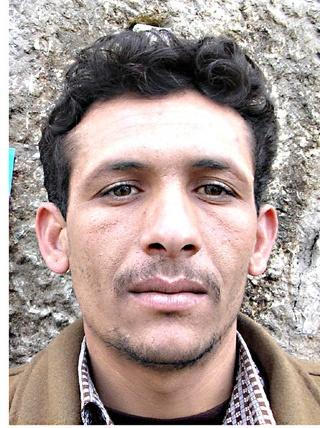No Mask: (29, 43, 311, 405)
